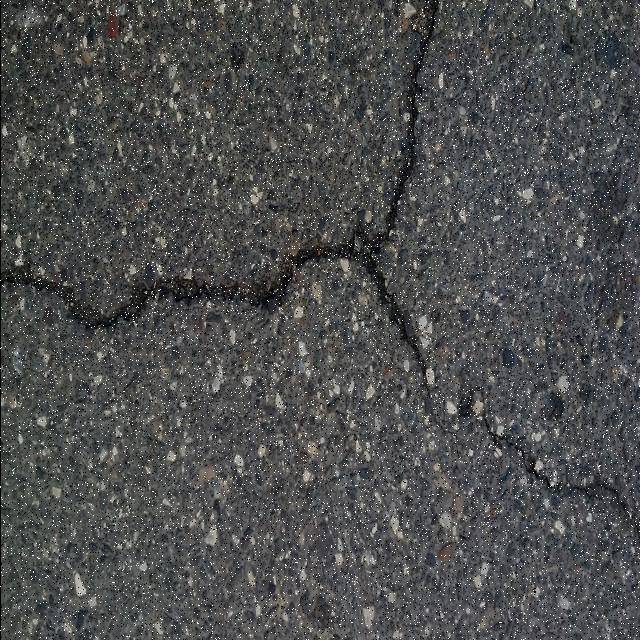Crack: (0, 0, 457, 445), (457, 386, 640, 540)
